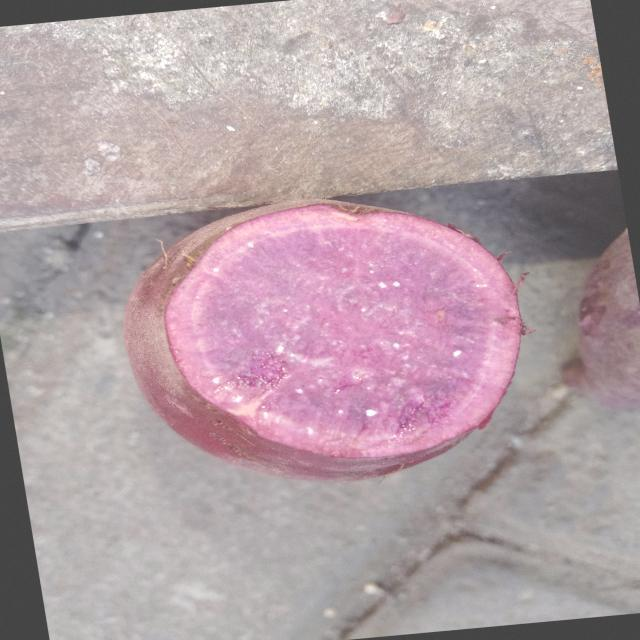Healthy Sweet Potato: (165, 205, 527, 458)
